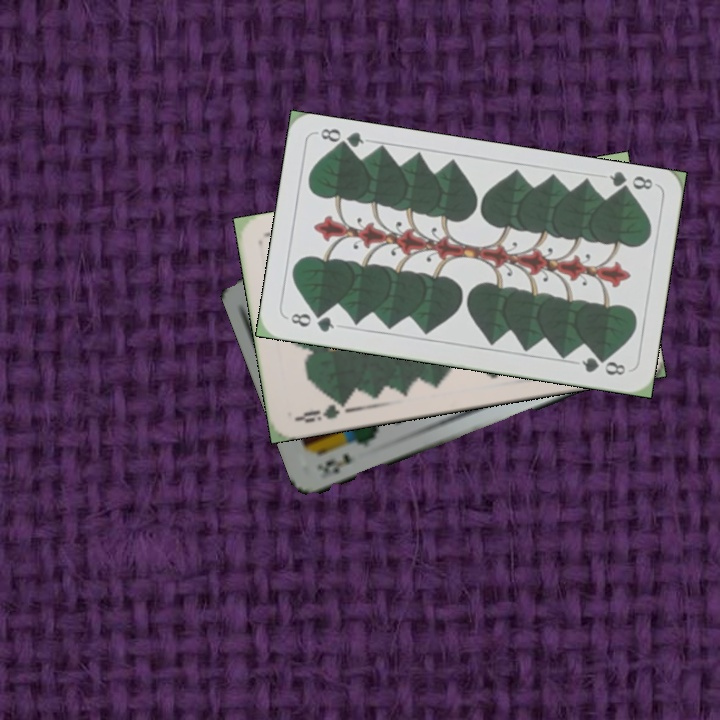EK: (313, 449, 355, 479)
G8: (605, 168, 655, 198), (286, 309, 337, 335)
G9: (292, 395, 350, 426)
